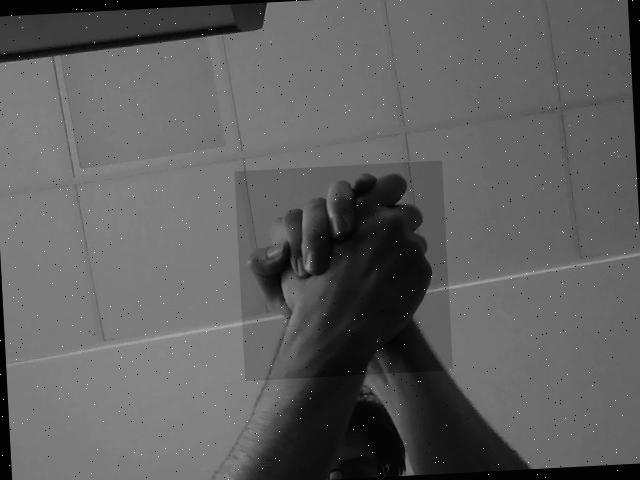friend: (239, 165, 448, 374)
